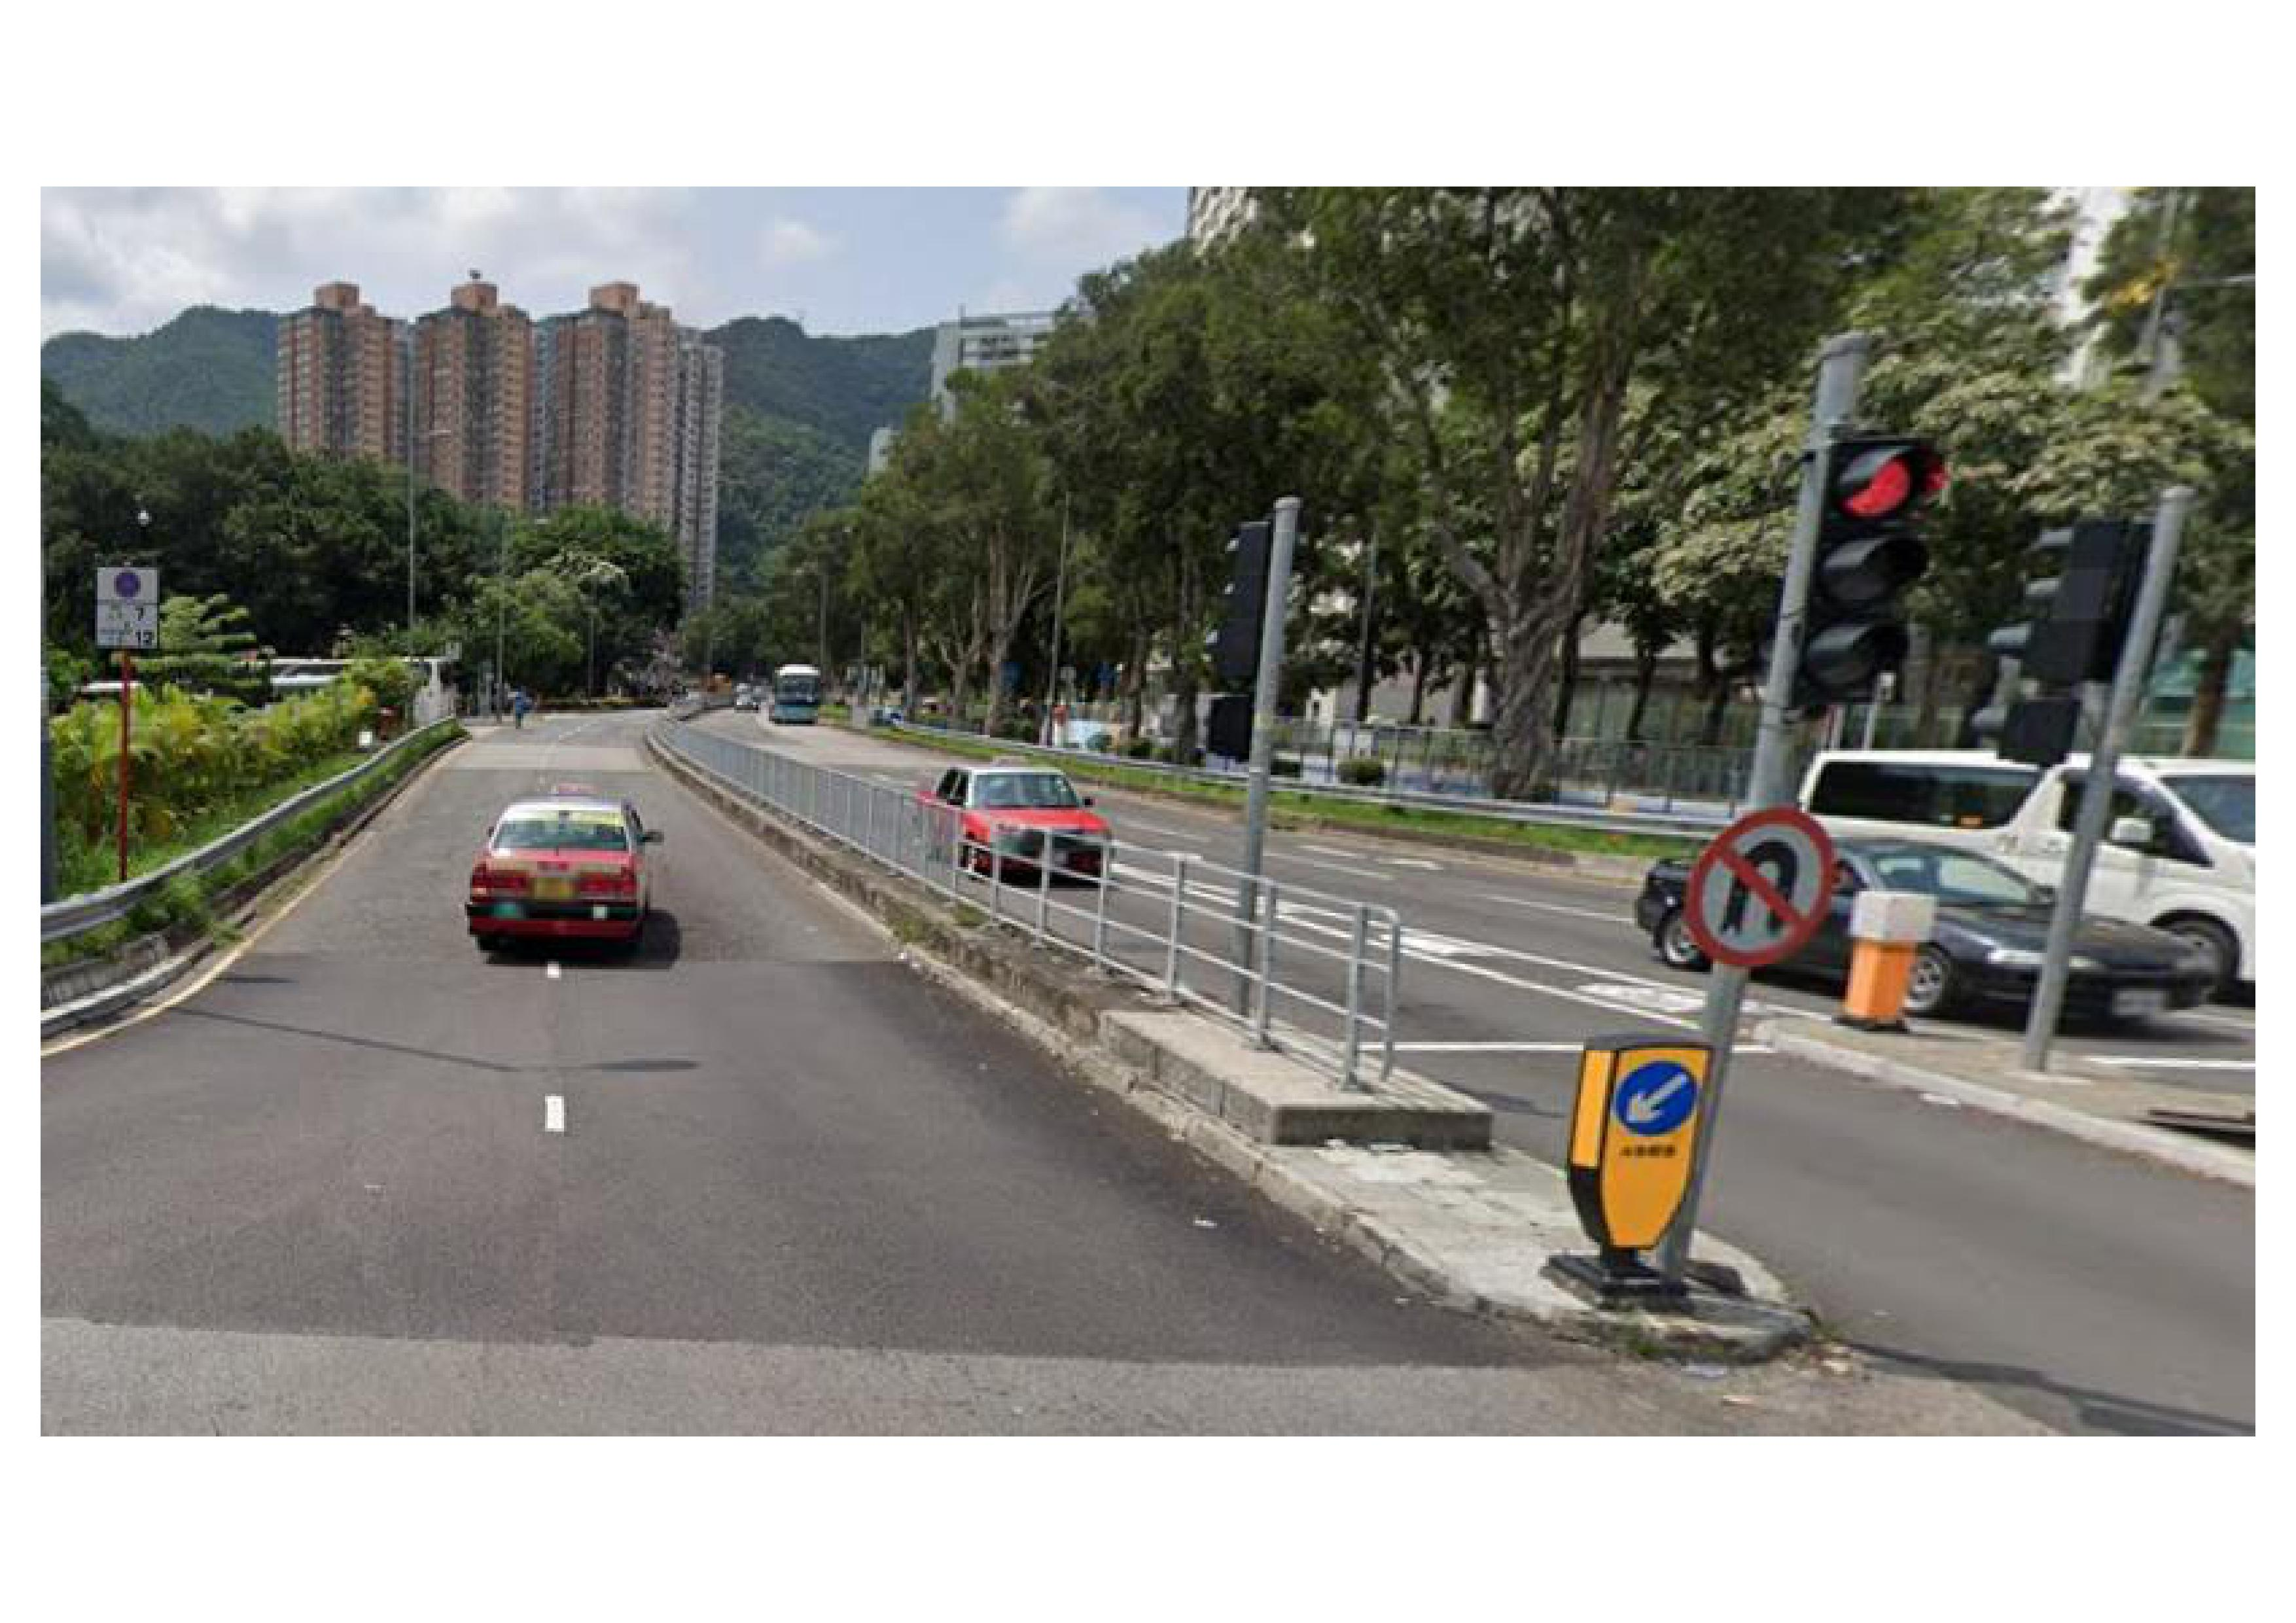No Uturn: (1661, 794, 1850, 980)
